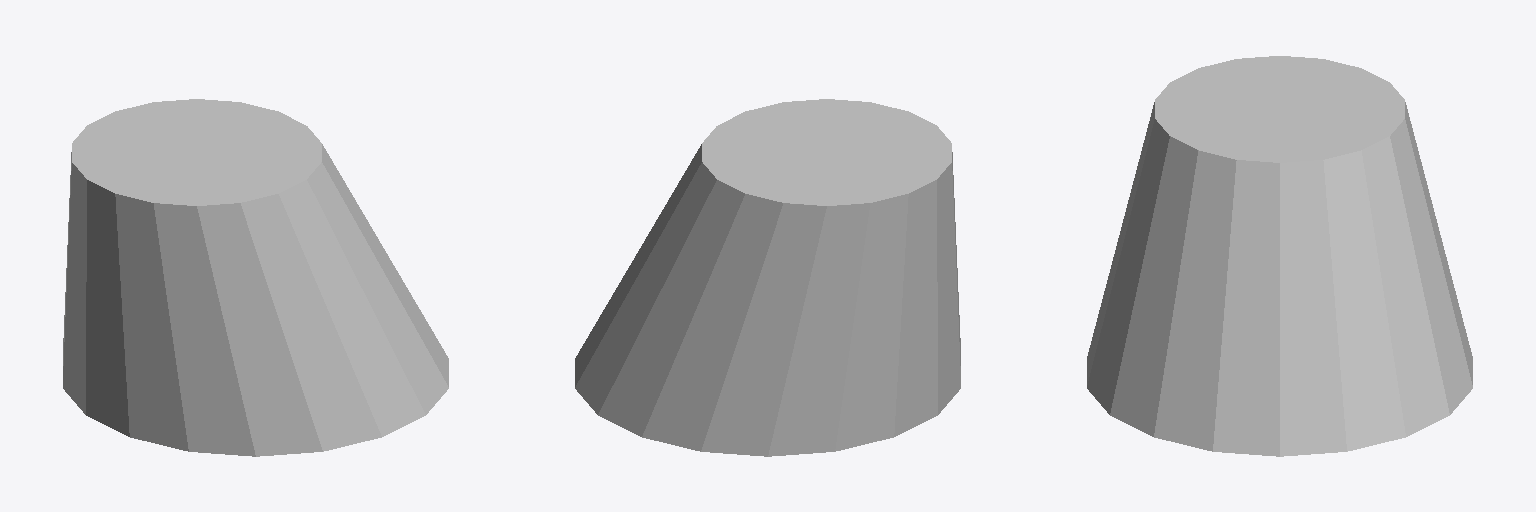
The model's file is reducer_eccentric.obj.
The picture shows the model from 3 angles: view 1: azimuth 30°, elevation 25°; view 2: azimuth 150°, elevation 25°; view 3: azimuth 270°, elevation 25°; orthographic projection.
Parts seen in each view (by area): view 1: __.1; view 2: __.1; view 3: __.1.
Boxes of the visible parts, box(x1,y1,x2,y2) form: __.1: box(63, 99, 448, 456); __.1: box(575, 99, 960, 456); __.1: box(1087, 56, 1472, 456).
Bounding box in the file's own units: 78.28 × 51.82 × 77.09.